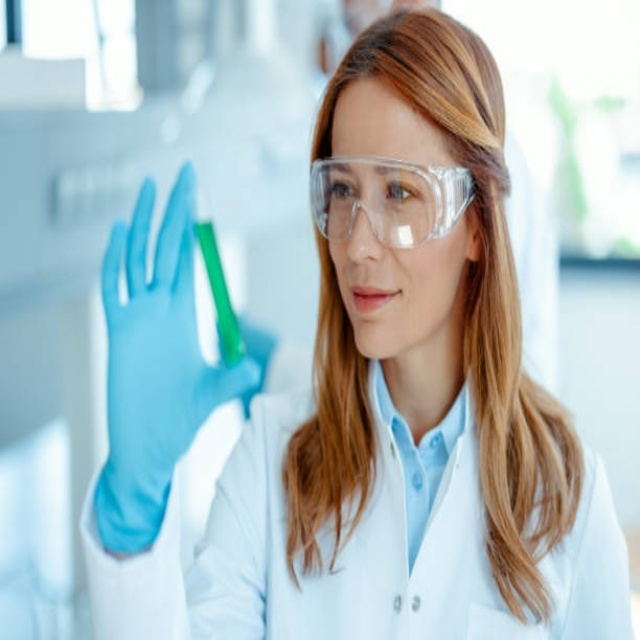Gafas: (311, 154, 474, 251)
Guantes: (92, 157, 262, 546)
Sin_mascara: (342, 278, 412, 345)
